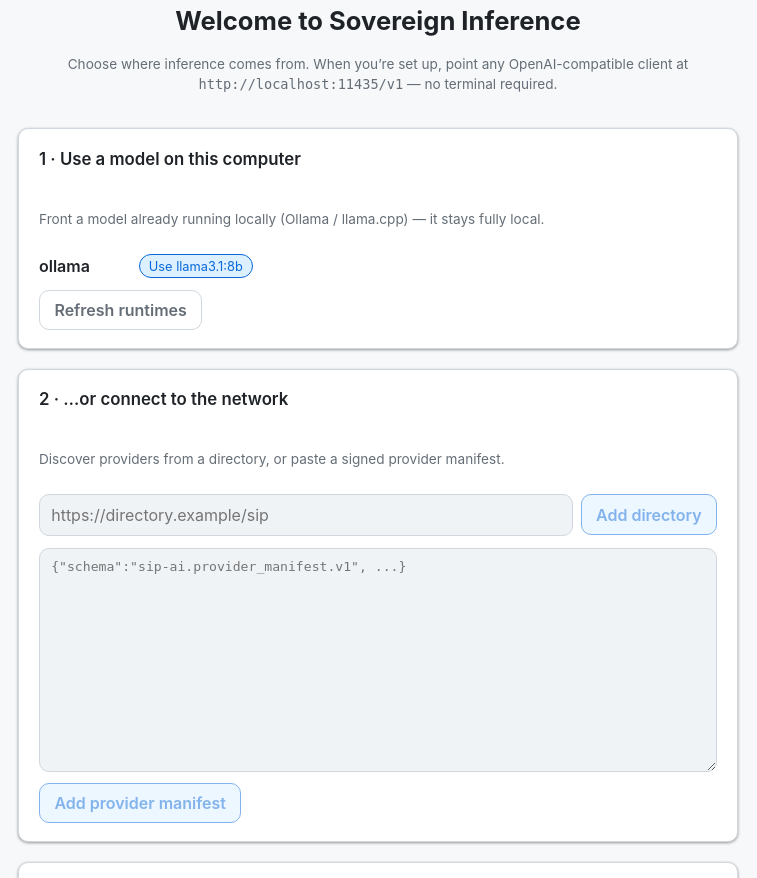
Test case: offers a detected local model and fronts it on click
Click the button "Use llama3.1:8b" at {"x": 196, "y": 266}, box [139,254,253,278]
(page scrolled)
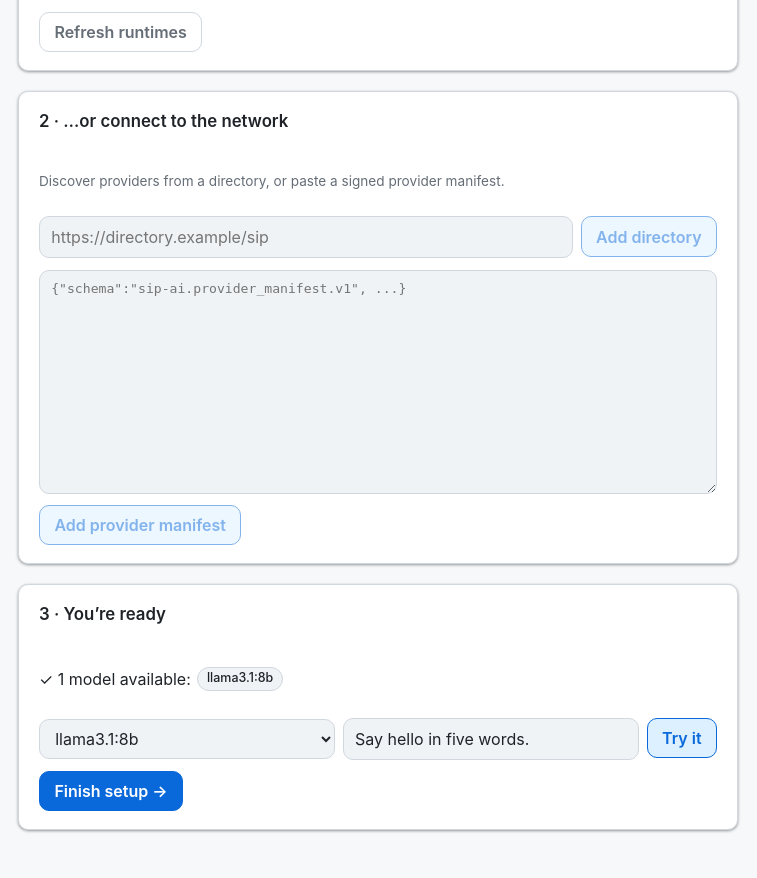
Now the button "Try it" is shown, box [647,718,717,758]
